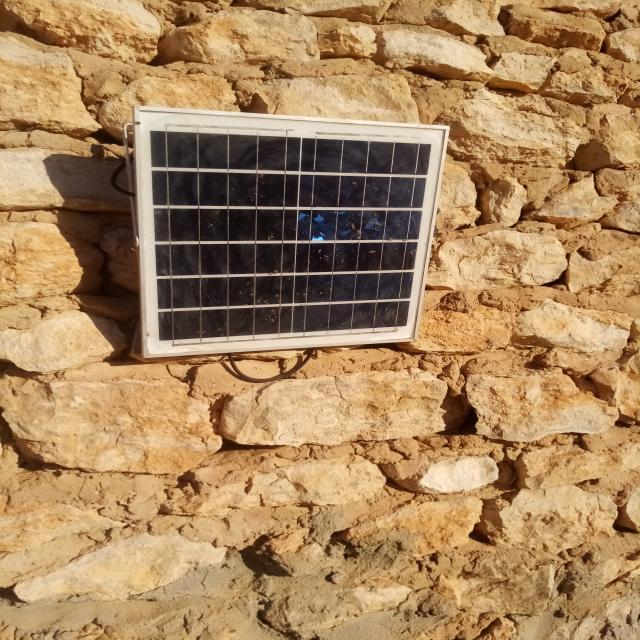faulty: (135, 109, 449, 358)
